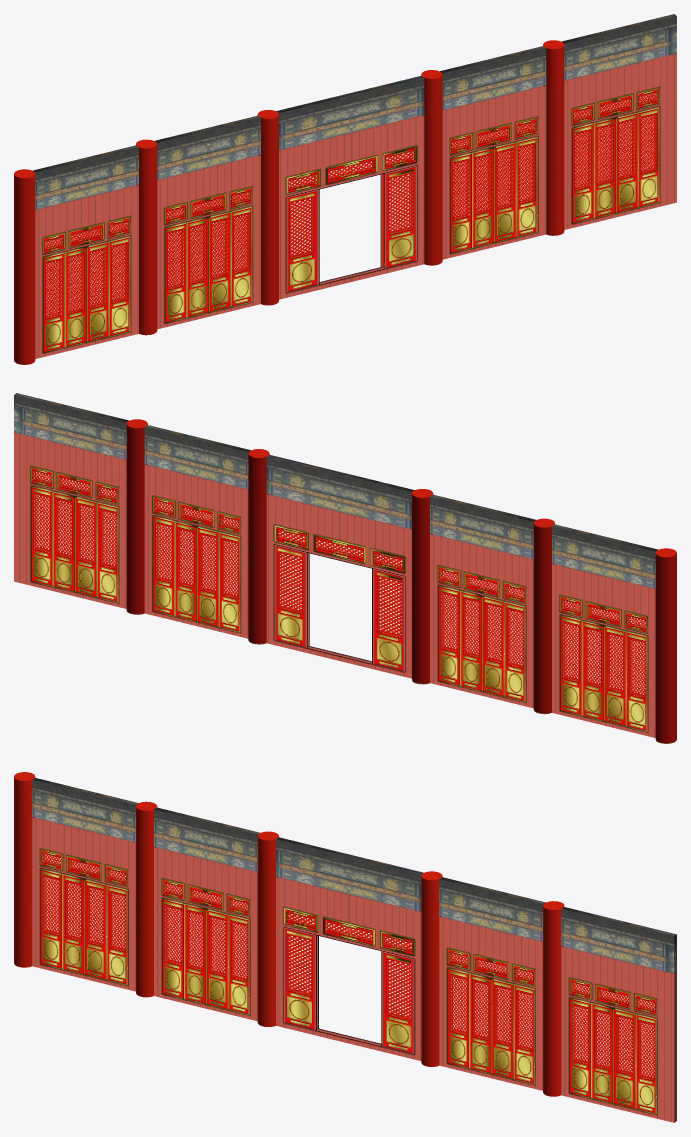
Rendered from wallwalldoorwallwall.dae.
The picture shows the model from 3 angles, top to bottom: view 1: azimuth 30°, elevation 25°; view 2: azimuth 150°, elevation 25°; view 3: azimuth 330°, elevation 25°; orthographic projection.
Parts seen in each view (by area): view 1: MainNode; view 2: MainNode; view 3: MainNode.
Part boxes in pixels (x1=…): MainNode: x1=14, y1=14, x2=676, y2=364; MainNode: x1=14, y1=393, x2=676, y2=743; MainNode: x1=14, y1=772, x2=676, y2=1122.
Size of the model in its own units: 17.77 by 4.8 by 0.4904.
1 material, 1 textured.
